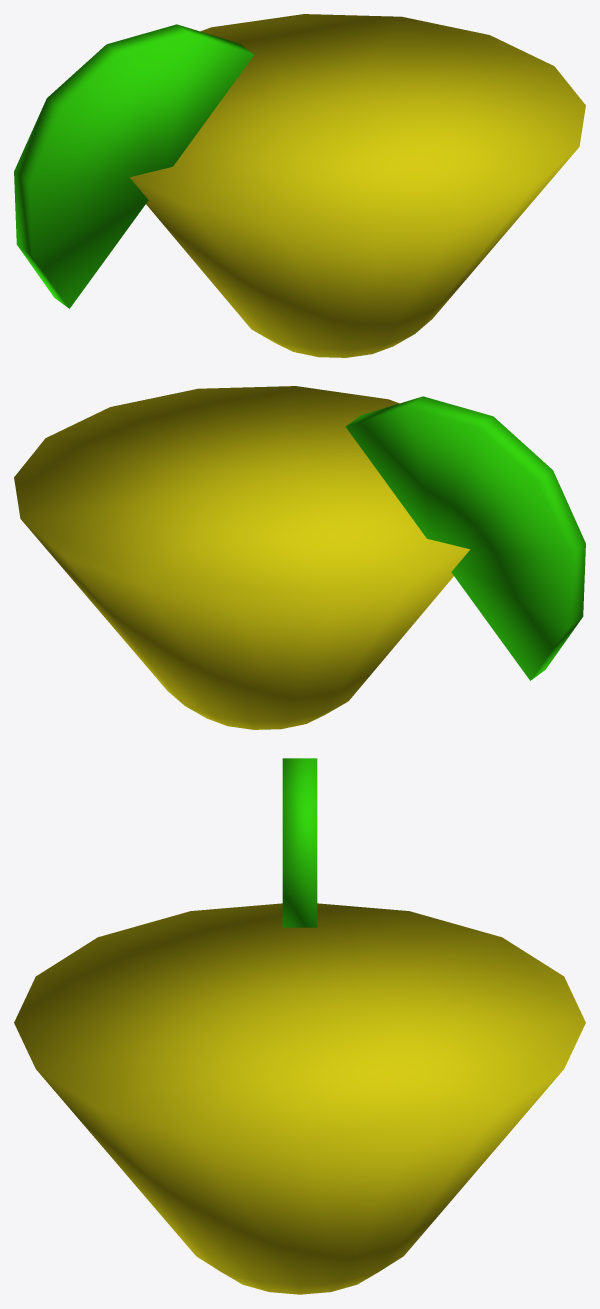
The model's file is BHP_MOD_DRI_Cosmopolitan.fbx.
The picture shows the model from 3 angles, top to bottom: view 1: azimuth 30°, elevation 25°; view 2: azimuth 150°, elevation 25°; view 3: azimuth 270°, elevation 25°; orthographic projection. The views are drawn at different scales.
Parts seen in each view (by area): view 1: BHP_MOD_Cosmopolitan; view 2: BHP_MOD_Cosmopolitan; view 3: BHP_MOD_Cosmopolitan.
Part boxes in pixels (x1,y1,x2,y2): BHP_MOD_Cosmopolitan: (14, 14, 585, 357); BHP_MOD_Cosmopolitan: (14, 386, 585, 729); BHP_MOD_Cosmopolitan: (14, 758, 585, 1294).
Size of the model in its own units: 0.1541 by 0.0971 by 0.1259.
